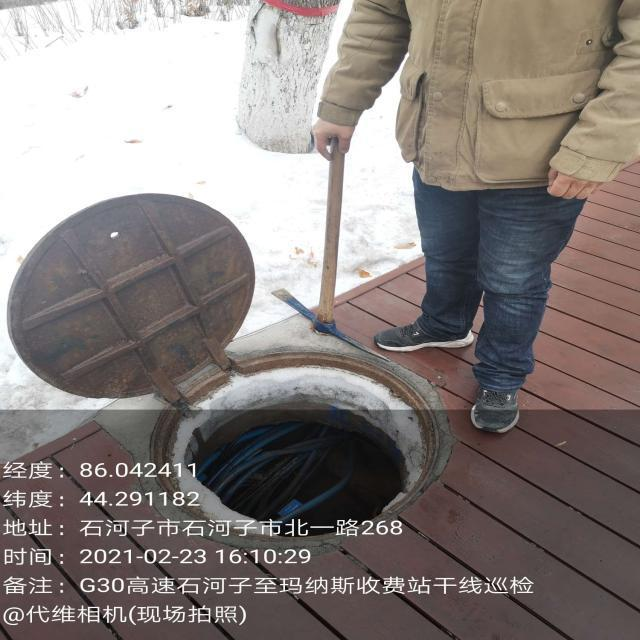manhole: (141, 347, 452, 536)
